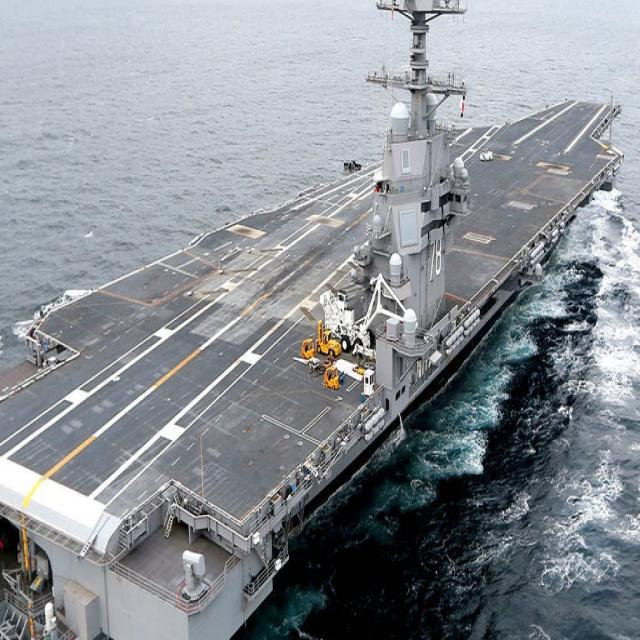Portanaves: (1, 1, 630, 640)
